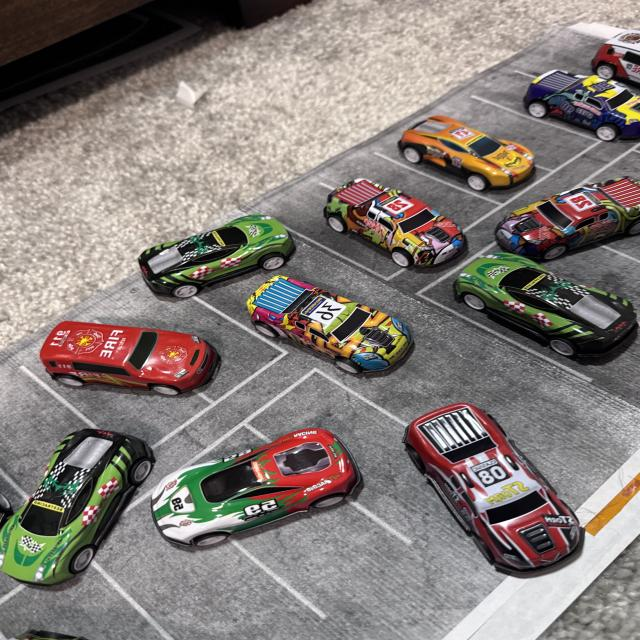car: (399, 385, 572, 603), (0, 290, 231, 438), (436, 232, 640, 386), (0, 433, 153, 611), (260, 163, 487, 274), (378, 102, 572, 222), (218, 304, 460, 392), (160, 426, 350, 514), (85, 215, 277, 301), (480, 58, 640, 158), (457, 170, 640, 252), (591, 20, 640, 94)
